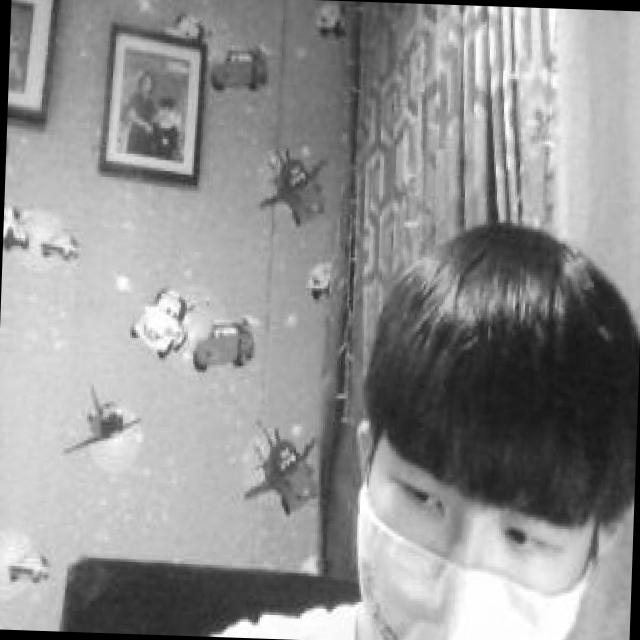Focused: (369, 447, 582, 640)
